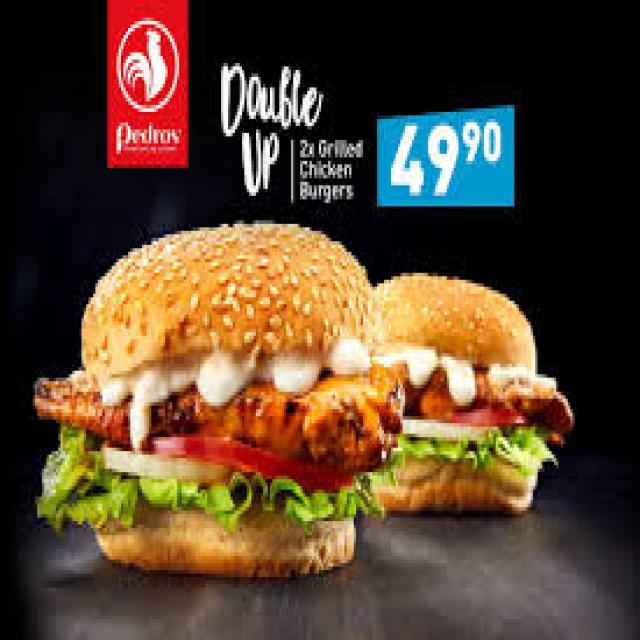햄버거: (66, 230, 390, 593), (374, 275, 582, 511)
